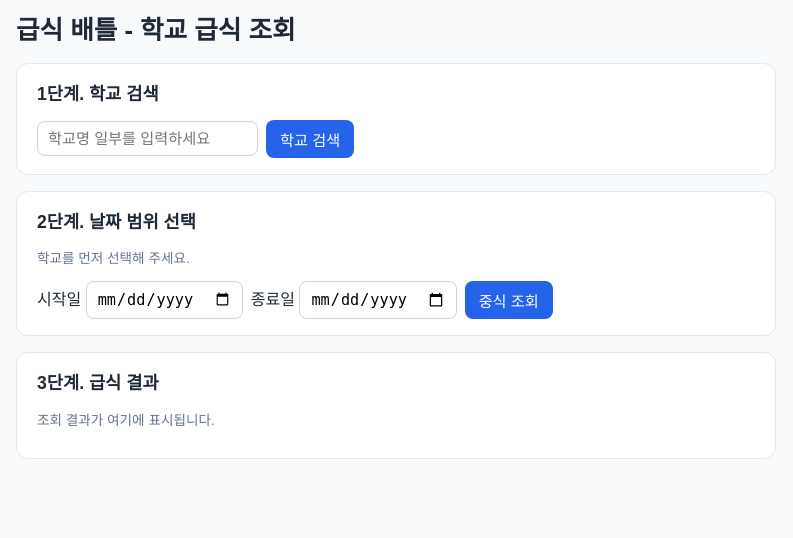
Test case: 급식 배틀 앱 › 검색 결과가 없으면 안내를 표시한다
Type "없는학교" into the field named "학교명 검색어".
click(148, 139); type("없는학교")  # box [37, 121, 258, 156]
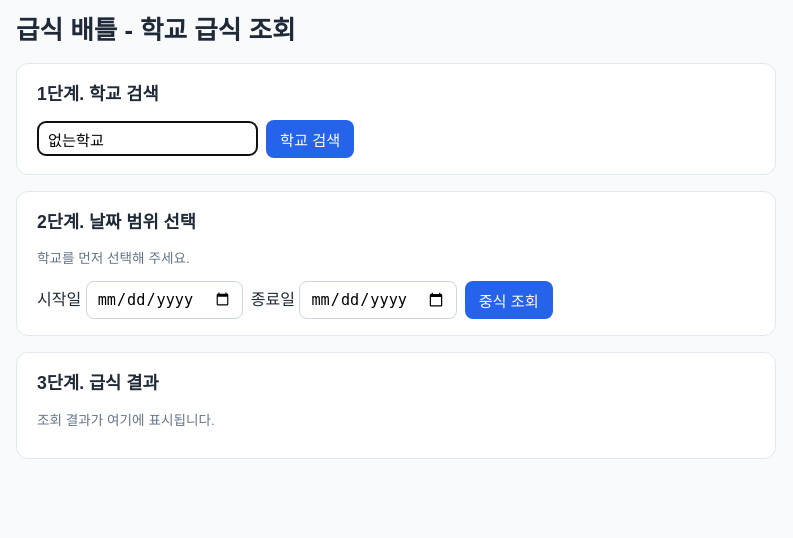
Click the button "학교 검색".
click(310, 139)  # box [266, 120, 354, 158]
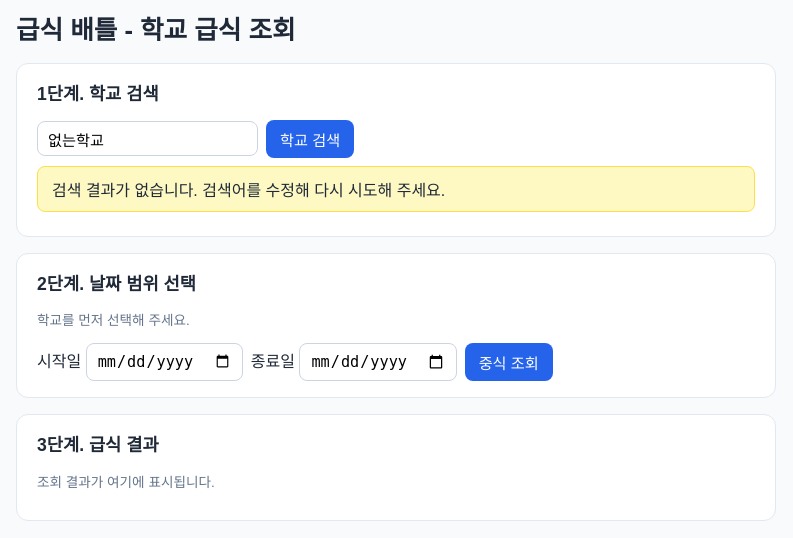
Check: the text "검색 결과가 없습니다. 검색어를 수정해 다시 시도해 주세요." is shown, box [37, 166, 755, 212]
